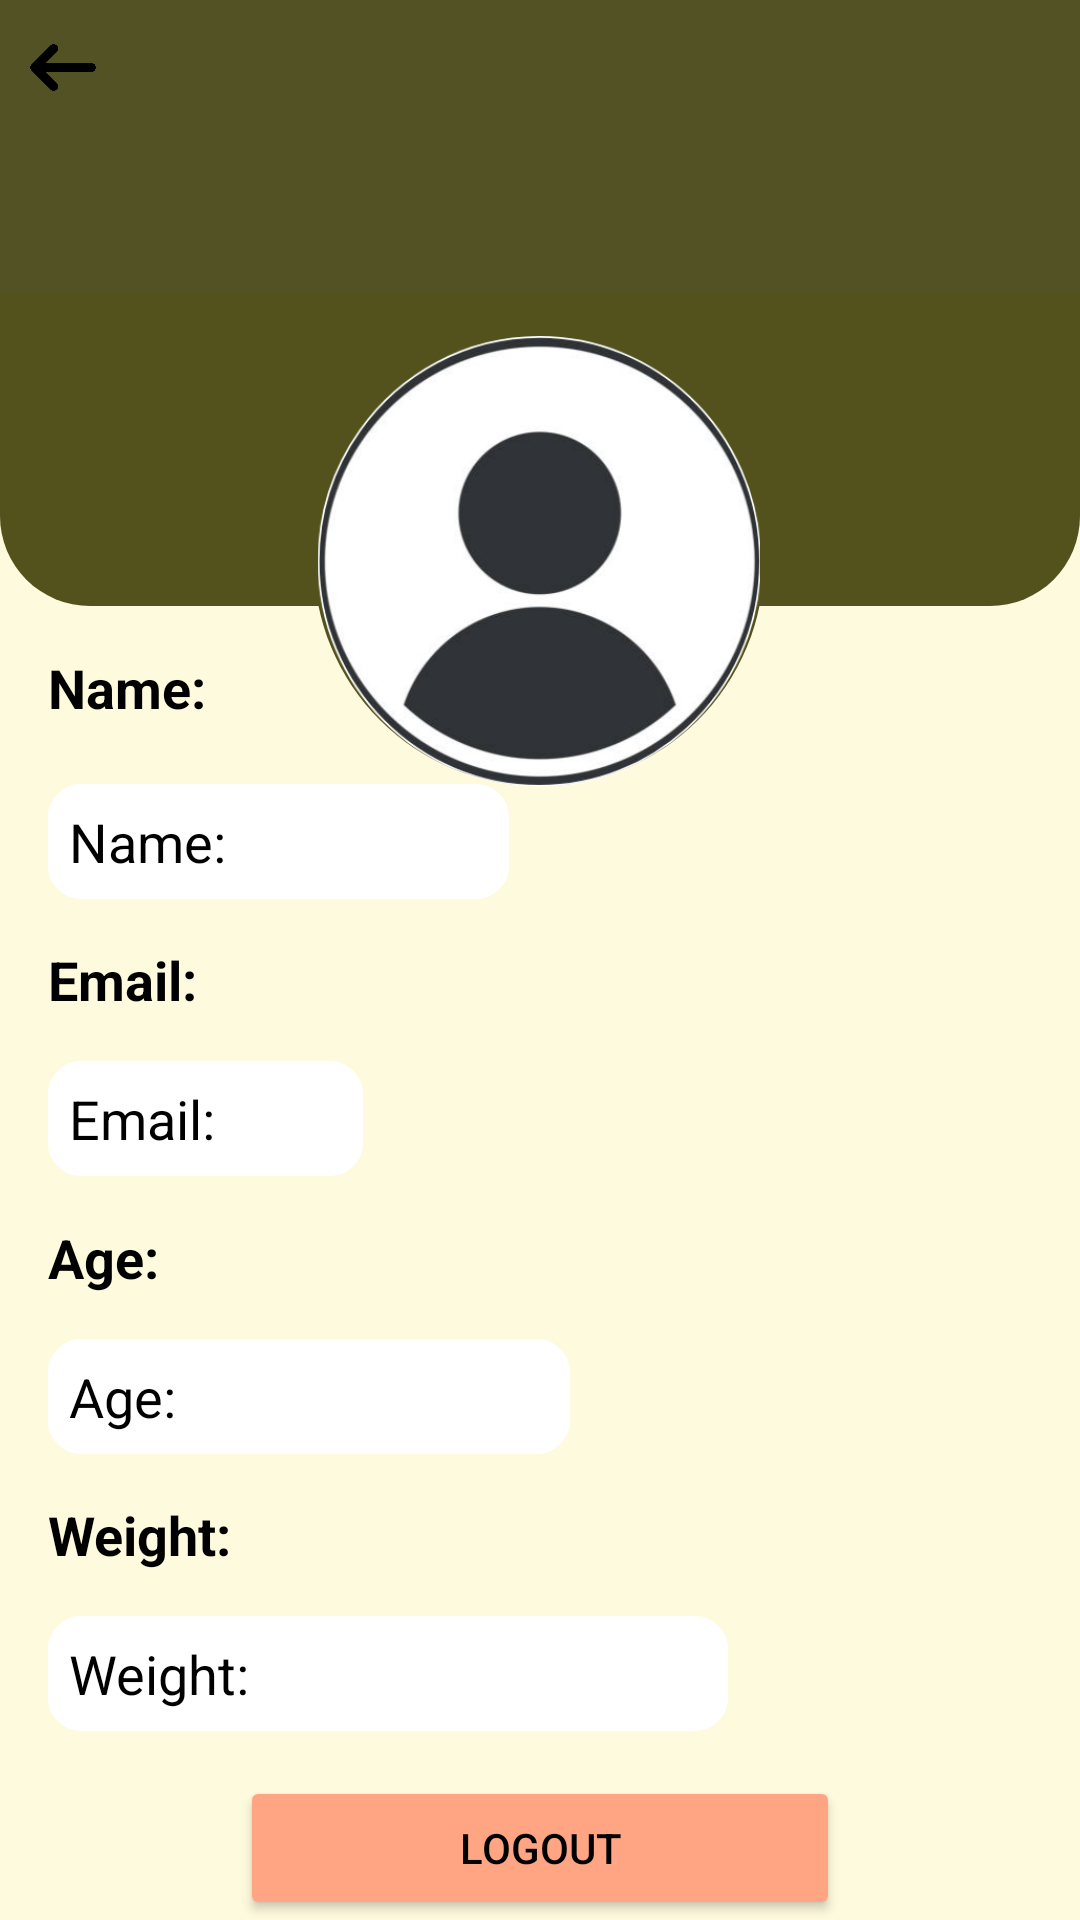

Icon click points for this 1080px×1920px phone screenshot, format (x,y):
arrow back: (63,67)
